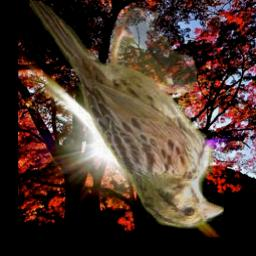Sparrow: (27, 2, 225, 232)
